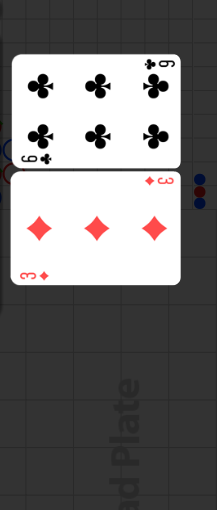3D: (143, 175, 175, 187)
6C: (20, 151, 54, 165)
